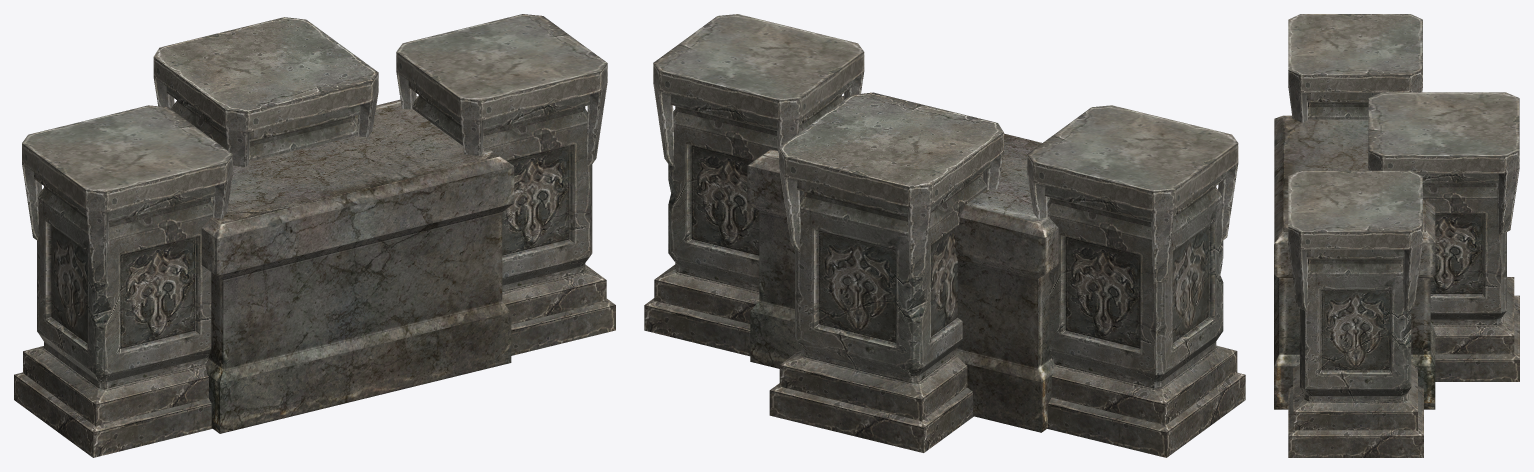
The model's file is bg_lut_lutomb_gate02a_sm_phs.FBX.
3 views of the same model, side by side, from view 1: azimuth 30°, elevation 25°; view 2: azimuth 150°, elevation 25°; view 3: azimuth 270°, elevation 25° (orthographic). The views are drawn at different scales.
Parts seen in each view (by area): view 1: bg_lut_lutomb_gate02a_sm_phs; view 2: bg_lut_lutomb_gate02a_sm_phs; view 3: bg_lut_lutomb_gate02a_sm_phs.
Boxes of the visible parts, bbox=[...] form: bg_lut_lutomb_gate02a_sm_phs: bbox=[14, 14, 615, 457]; bg_lut_lutomb_gate02a_sm_phs: bbox=[644, 14, 1245, 457]; bg_lut_lutomb_gate02a_sm_phs: bbox=[1274, 14, 1519, 457].
Size of the model in its own units: 235 by 113 by 112.
